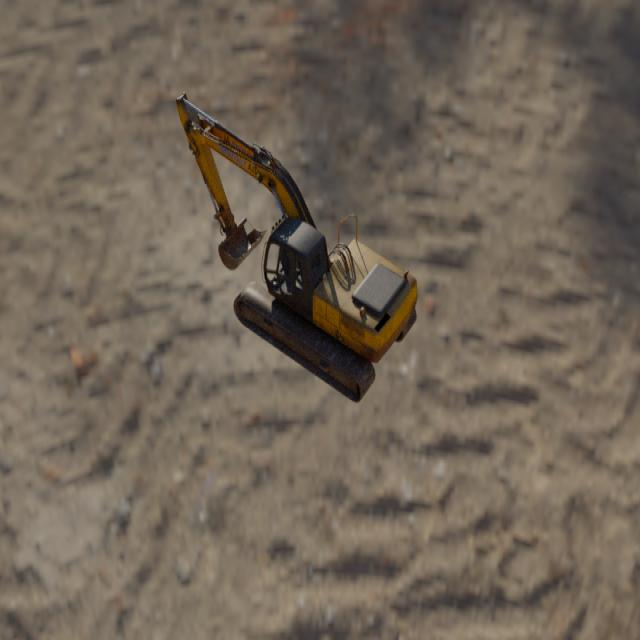excavator: (175, 90, 418, 402)
